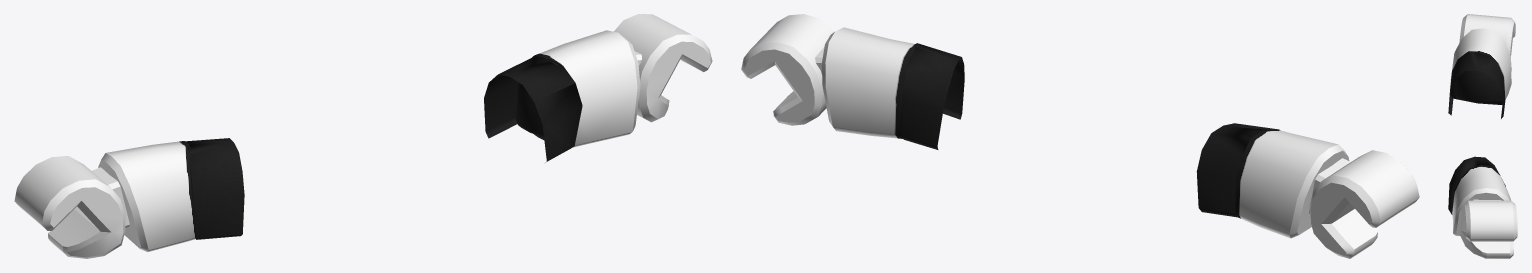
File: Hand.fbx
3 views of the same model, side by side, from view 1: azimuth 30°, elevation 25°; view 2: azimuth 150°, elevation 25°; view 3: azimuth 270°, elevation 25° (orthographic). The views are drawn at different scales.
Visible parts, largest first — view 1: Hand_Character; view 2: Hand_Character; view 3: Hand_Character.
Part boxes in pixels (left/top/right/bottom): Hand_Character: left=14, top=14, right=712, bottom=258; Hand_Character: left=741, top=14, right=1419, bottom=258; Hand_Character: left=1448, top=14, right=1517, bottom=258.
Size of the model in its own units: 557 by 73.83 by 77.83.
